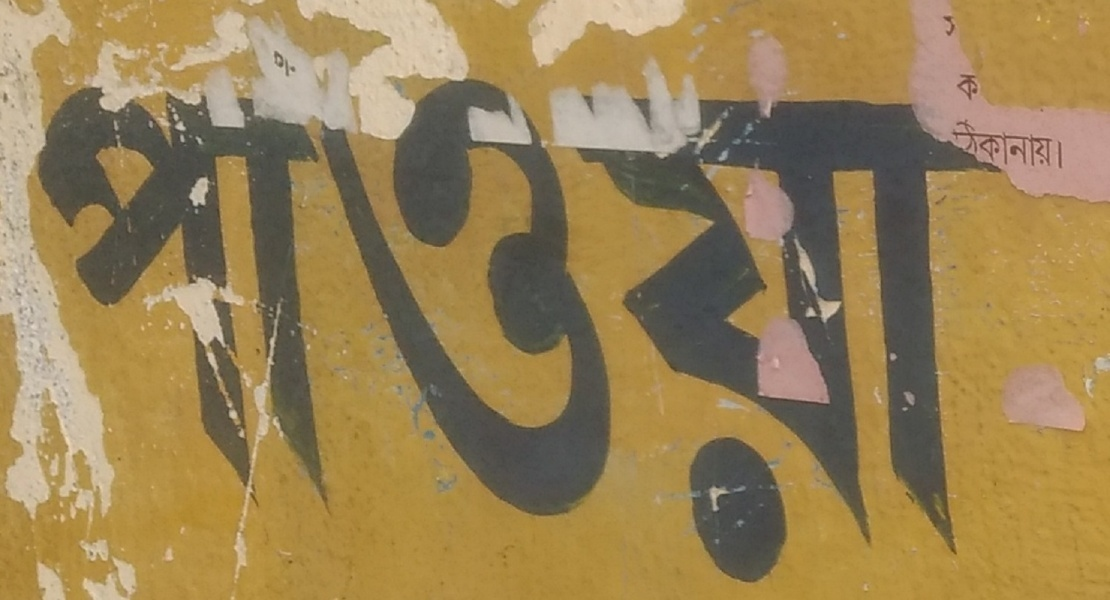text: (33, 59, 48, 585), (49, 59, 64, 585), (65, 59, 80, 585), (81, 59, 96, 585), (97, 59, 112, 585), (113, 59, 128, 585), (129, 59, 144, 585), (145, 59, 160, 585), (161, 59, 176, 585), (177, 59, 192, 585), (193, 59, 208, 585), (209, 59, 224, 585), (225, 59, 240, 585), (241, 59, 256, 585), (257, 59, 272, 585), (273, 59, 288, 585), (289, 59, 304, 585), (305, 59, 320, 585), (321, 59, 336, 585), (337, 59, 352, 585), (353, 59, 368, 585), (369, 59, 384, 585), (385, 59, 400, 585), (401, 59, 416, 585), (417, 59, 432, 585), (433, 59, 448, 585), (449, 59, 464, 585), (465, 59, 480, 585), (481, 59, 496, 585), (497, 59, 512, 585), (513, 59, 528, 585), (529, 59, 544, 585), (545, 59, 560, 585), (561, 59, 576, 585), (577, 59, 592, 585), (593, 59, 608, 585), (609, 59, 624, 585), (625, 59, 640, 585), (641, 59, 656, 585), (657, 59, 672, 585), (673, 59, 688, 585), (689, 59, 704, 585), (705, 59, 720, 585), (721, 59, 736, 585), (737, 59, 752, 585), (753, 59, 768, 585), (769, 59, 784, 585), (785, 59, 800, 585), (801, 59, 816, 585), (817, 59, 832, 585), (833, 59, 848, 585), (849, 59, 864, 585), (865, 59, 880, 585), (881, 59, 896, 585), (897, 59, 912, 585), (913, 59, 928, 585), (929, 59, 944, 585), (945, 59, 960, 585), (961, 59, 976, 585), (977, 59, 992, 585), (993, 59, 1005, 585), (961, 117, 976, 180), (977, 117, 992, 180), (993, 117, 1008, 180), (1009, 117, 1024, 180), (1025, 117, 1040, 180), (1041, 117, 1056, 180), (273, 43, 288, 86), (289, 43, 304, 86), (258, 43, 272, 86), (951, 117, 960, 180), (1057, 117, 1065, 180), (961, 72, 976, 101), (305, 43, 311, 86), (977, 72, 982, 101), (958, 72, 960, 101)
